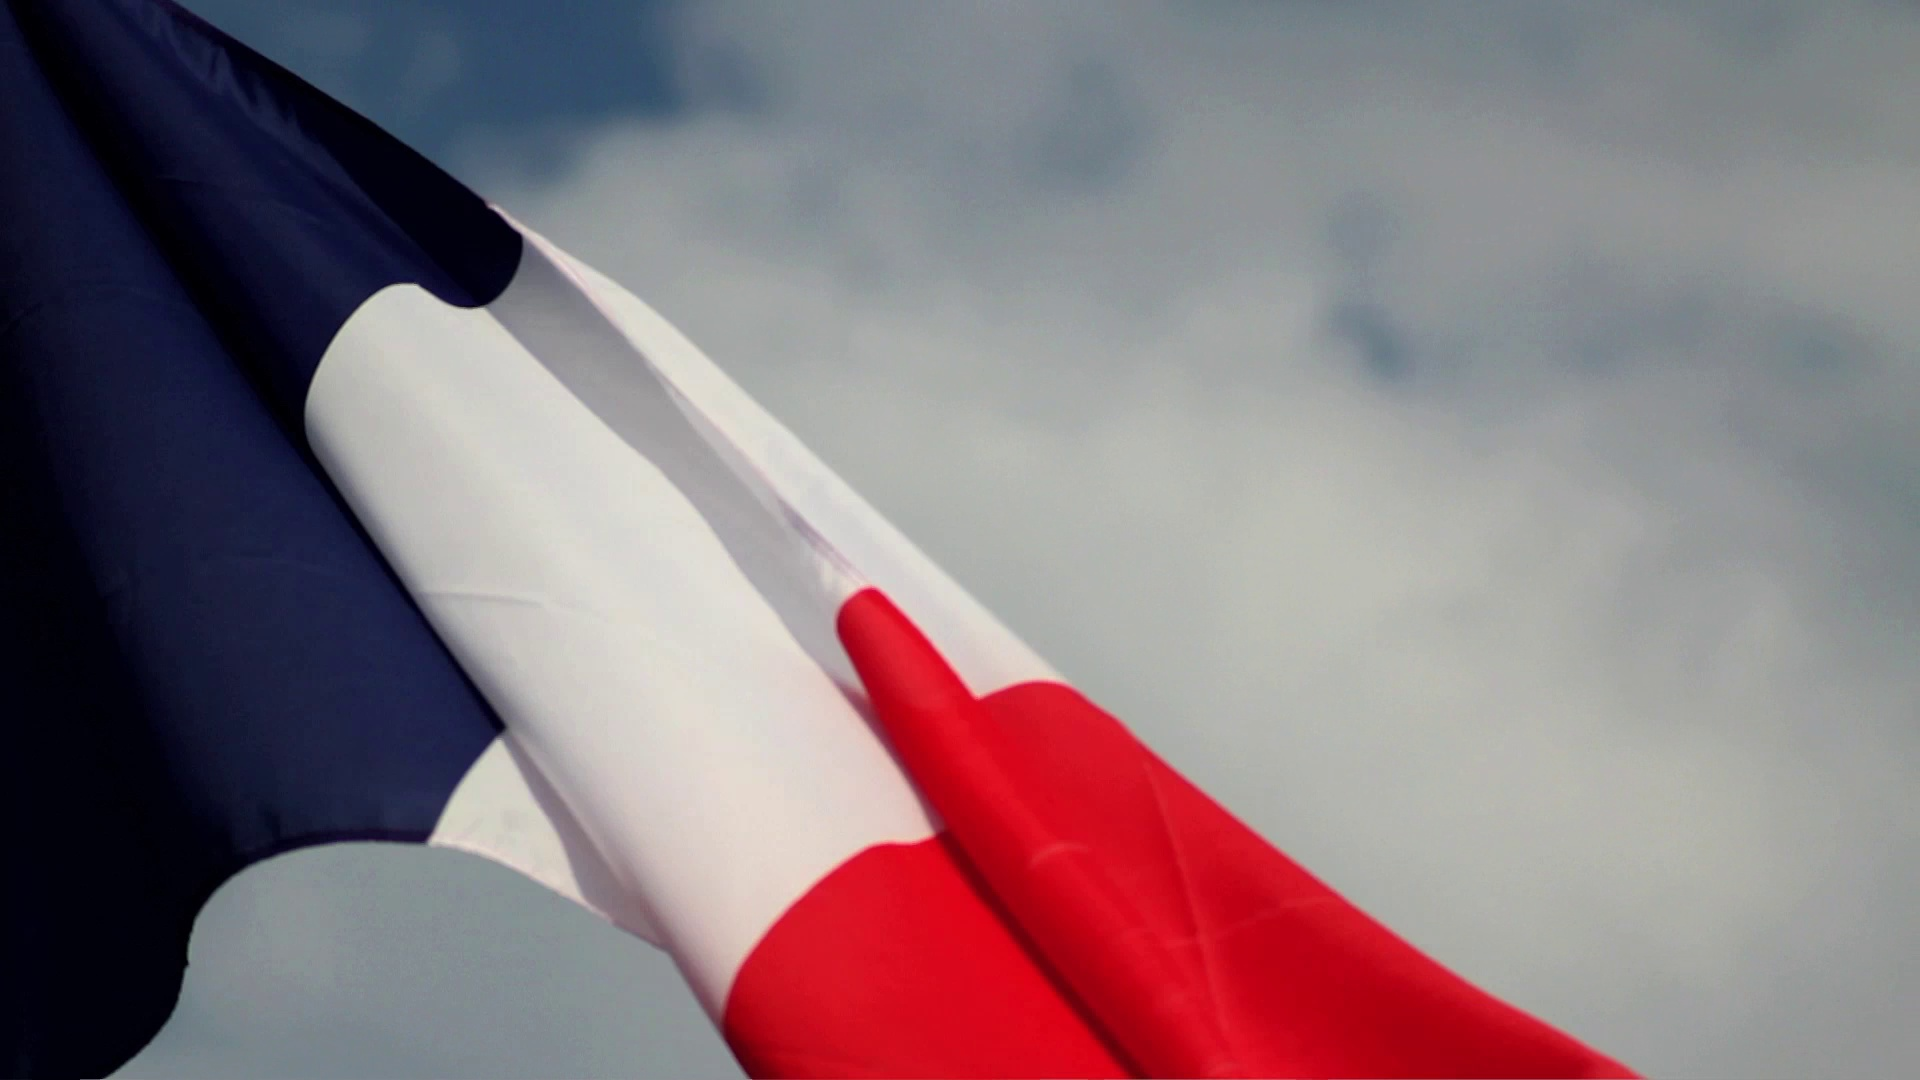French Flag: (3, 1, 1631, 1080)
